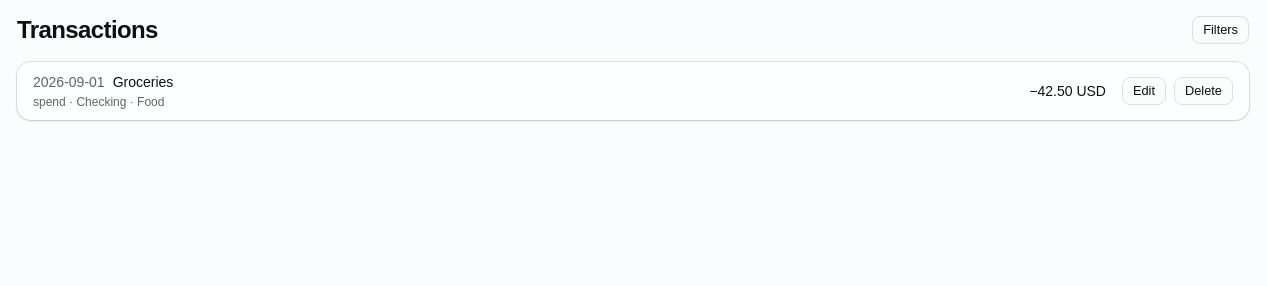
Test: TransactionsList › title-cases the type filter options, matching the account/category type dropdowns
Check: the text "Groceries" is shown, box [113, 72, 173, 92]
Click the button "Filters" at (1221, 30), box [1192, 16, 1249, 44]
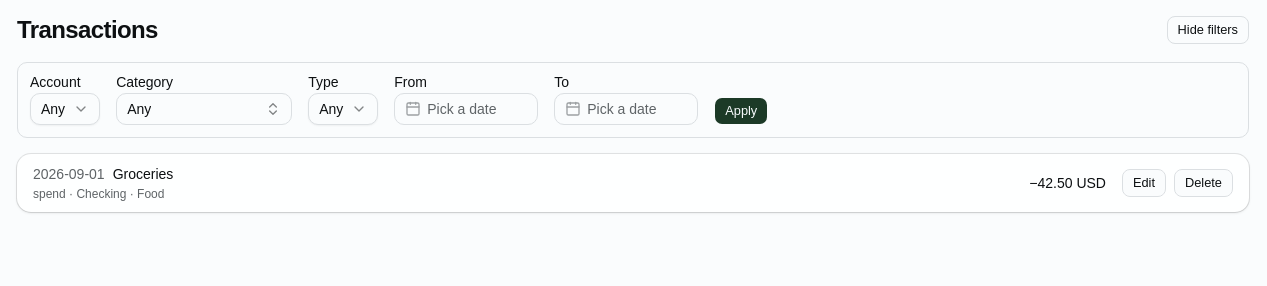
Click the dropdown named "Type" at (343, 109), box [308, 93, 378, 125]
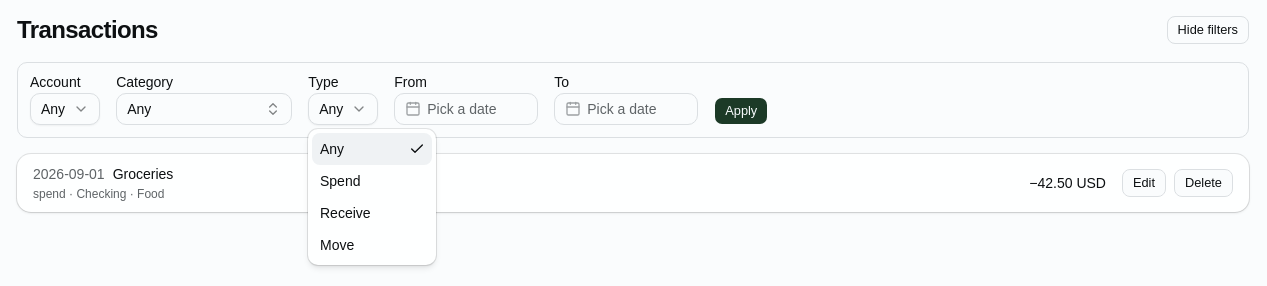
Check: the option "Spend" is shown, box [320, 173, 360, 189]
Check: the option "Receive" is shown, box [320, 205, 371, 221]
Check: the option "Move" is shown, box [320, 237, 354, 253]
